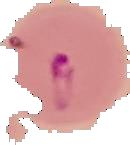parasitized: (46, 42, 79, 118)
